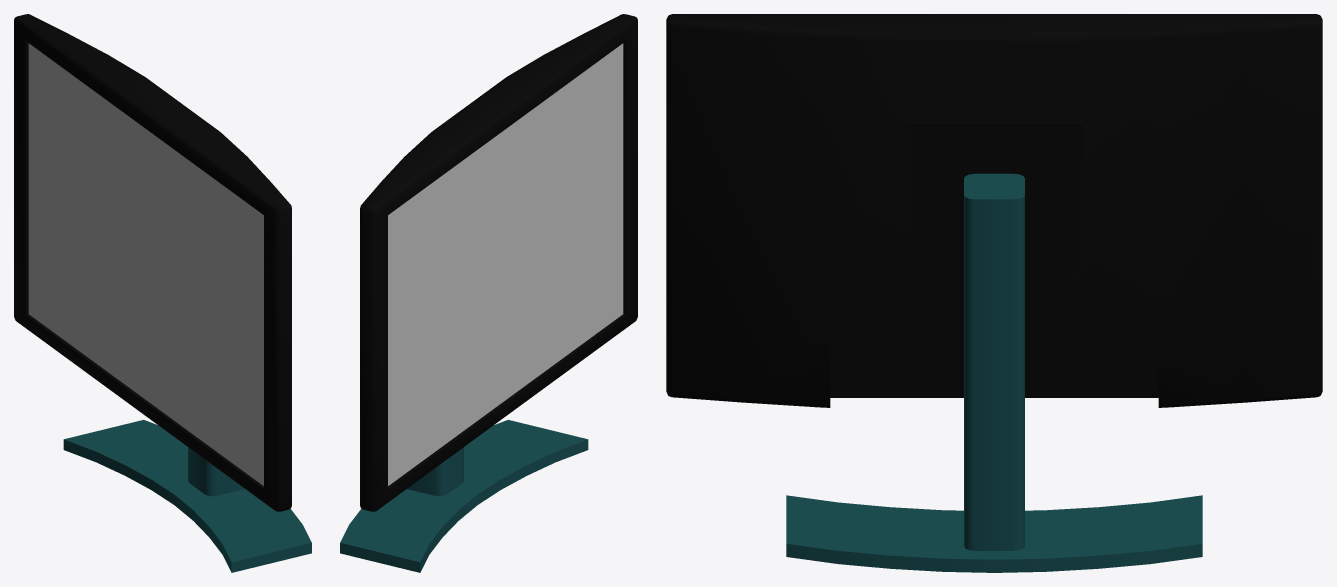
Rendered from S_ScreenPC.fbx.
The picture shows the model from 3 angles, left to right: view 1: azimuth 30°, elevation 25°; view 2: azimuth 150°, elevation 25°; view 3: azimuth 270°, elevation 25°; orthographic projection. The views are drawn at different scales.
Parts seen in each view (by area): view 1: S_ScreenPC; view 2: S_ScreenPC; view 3: S_ScreenPC.
Boxes of the visible parts, x1,y1,x2,y2 form: S_ScreenPC: [14, 14, 311, 572]; S_ScreenPC: [340, 14, 637, 572]; S_ScreenPC: [666, 14, 1322, 572].
Bounding box in the file's own units: 5.38 × 18.74 × 22.53.
